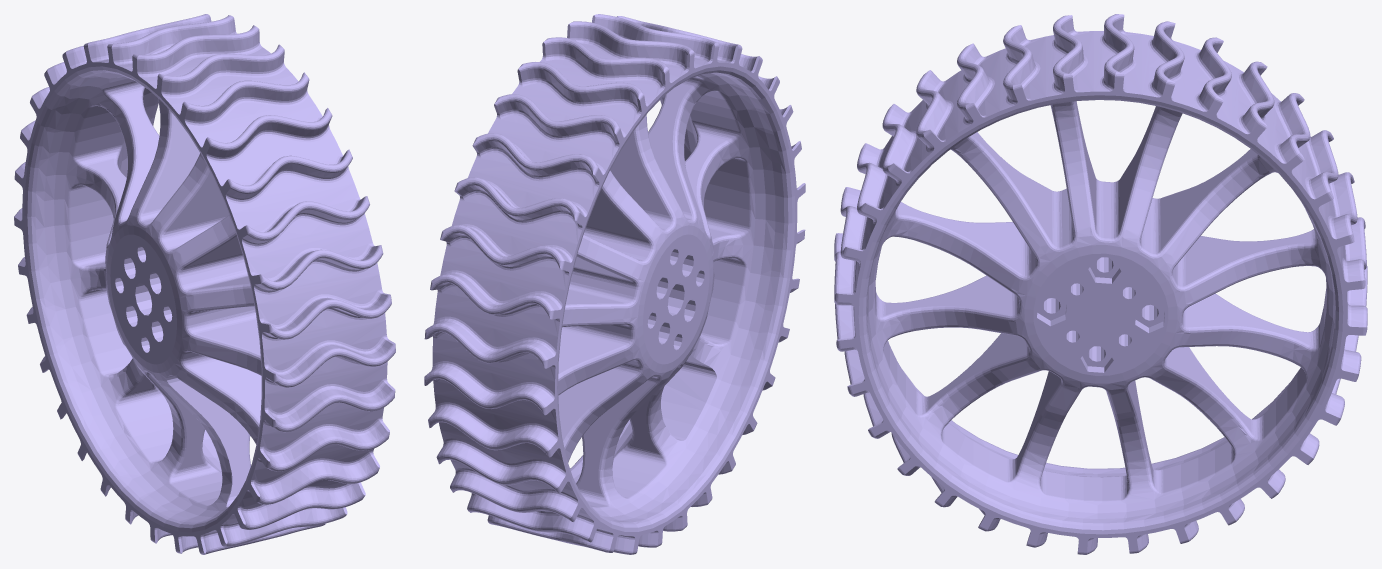
The model's file is Front Right Wheel.glb.
3 views of the same model, side by side, from view 1: azimuth 30°, elevation 25°; view 2: azimuth 150°, elevation 25°; view 3: azimuth 270°, elevation 25° (orthographic).
Bounding box in the file's own units: 0.035 × 0.13 × 0.13.
